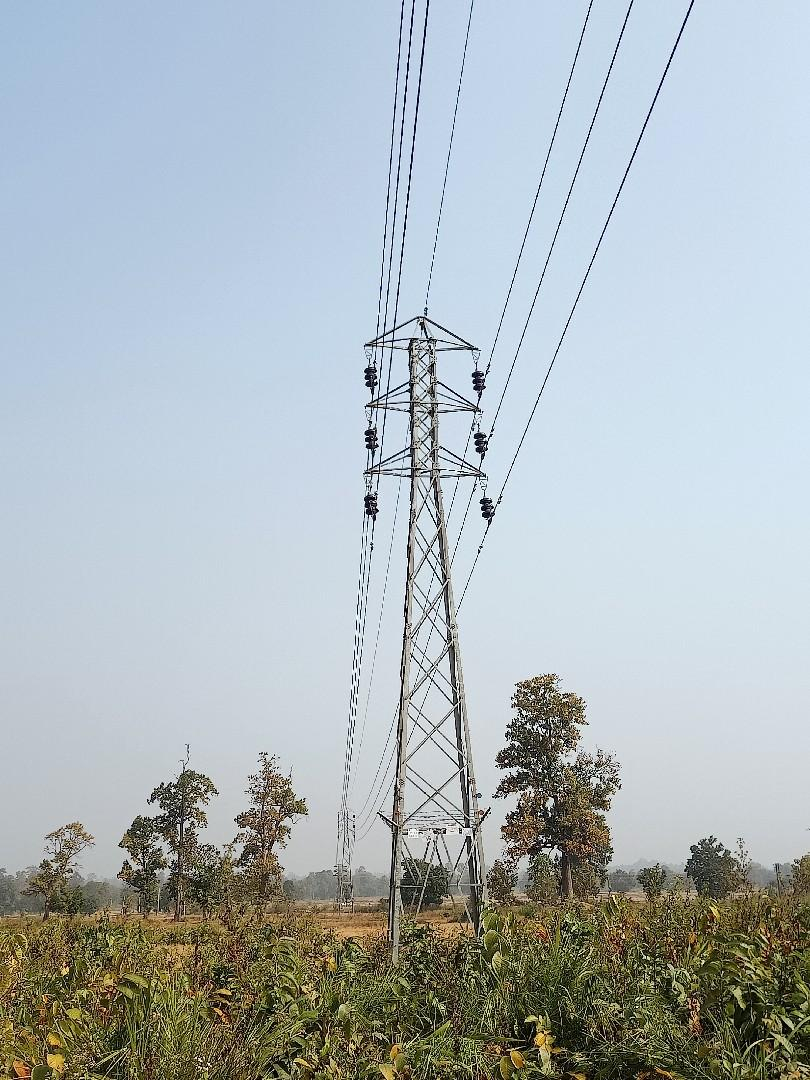GSM Antenna: (358, 309, 498, 909)
